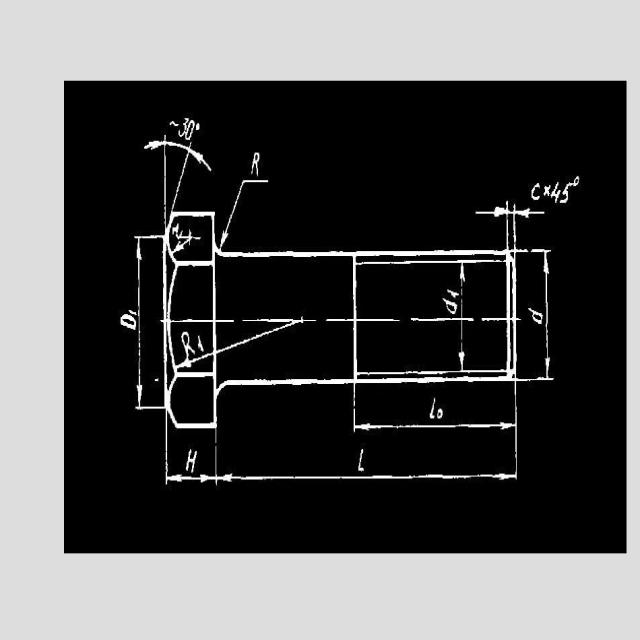marking_line: (214, 429, 522, 481), (352, 385, 520, 432), (515, 249, 552, 388), (132, 233, 160, 412), (143, 138, 212, 210), (219, 177, 273, 249), (477, 201, 547, 248), (164, 428, 218, 485), (173, 225, 202, 252)
numeric: (458, 264, 466, 369), (181, 328, 195, 361), (526, 307, 544, 327), (184, 447, 197, 474), (561, 182, 574, 204), (442, 297, 457, 316), (195, 335, 206, 356), (531, 180, 542, 201), (357, 445, 365, 472), (251, 152, 260, 176), (184, 120, 195, 139), (429, 395, 437, 421), (179, 118, 188, 138), (447, 288, 460, 299), (552, 182, 558, 205), (436, 406, 445, 419)
special_symbol: (543, 184, 550, 197), (169, 120, 180, 127), (573, 175, 579, 187), (196, 123, 201, 132)
